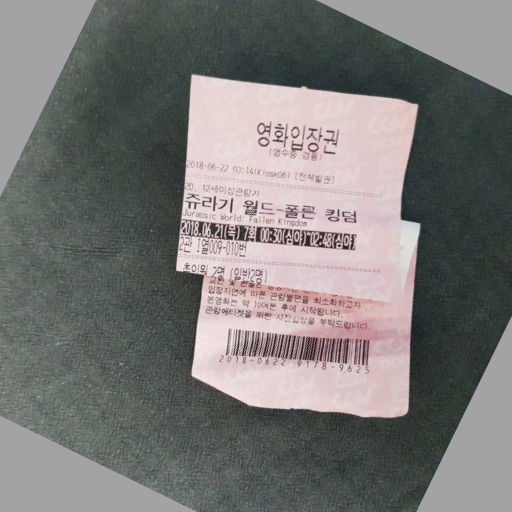Paper_3: (174, 60, 435, 431)
